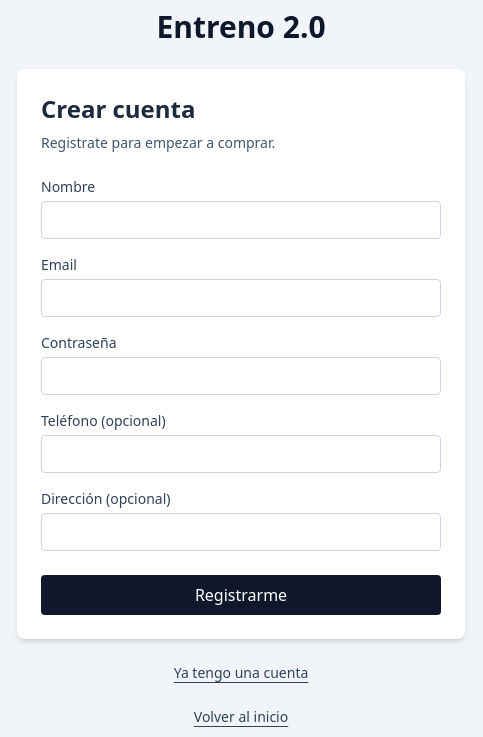
Test case: RegisterPage › con 409 muestra el aviso junto al campo email sin navegar al login
This screenshot has width=483, height=737.
Type "Ana Cliente" into the field labelled "Nombre" at (241, 220), box [41,201,441,239]
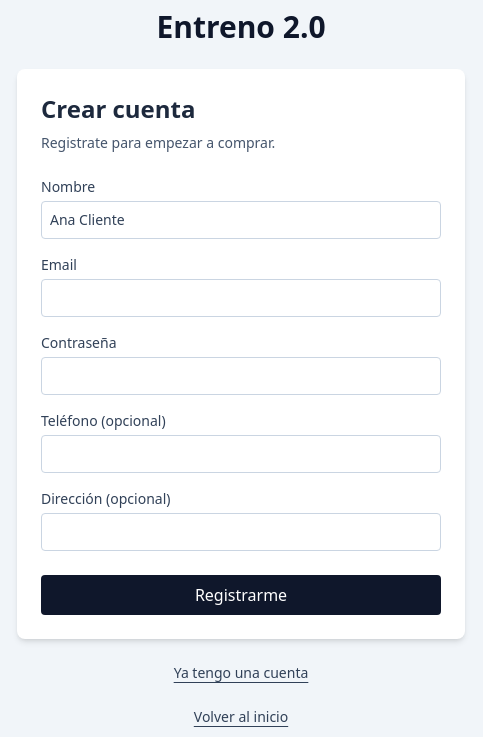
Type "ana@entreno.com.ar" into the field labelled "Email" at (241, 298), box [41,279,441,317]
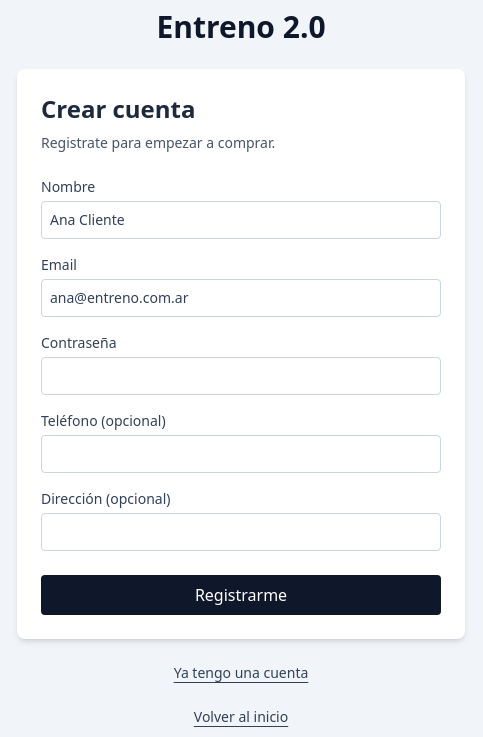
Type "supersecret1" into the password field labelled "Contraseña" at (241, 376), box [41,357,441,395]
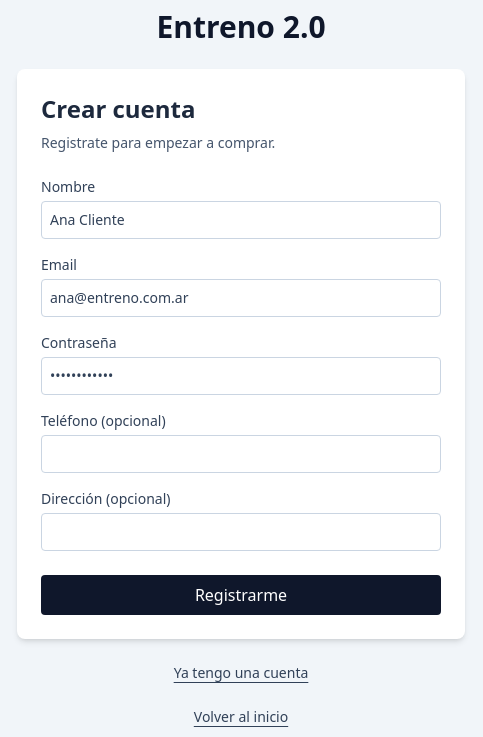
Click the button "Registrarme" at (241, 595), box [41,575,441,615]
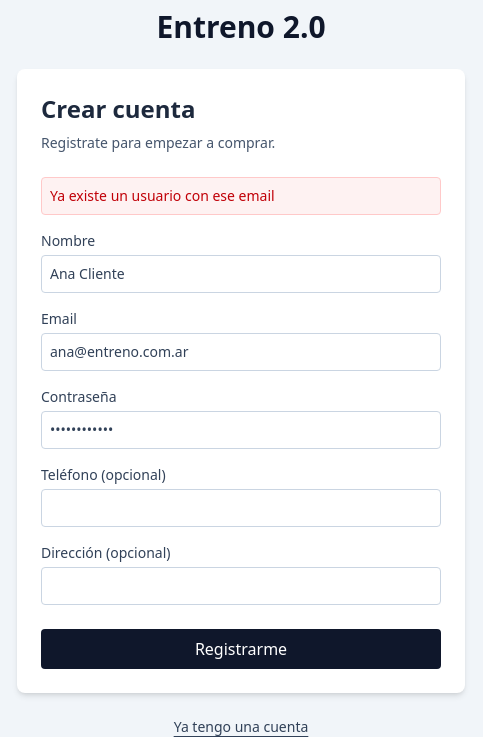
Expected: the heading "Crear cuenta" is shown, [41,92,196,125]
Expected: the text "Ya existe un usuario con ese email" is shown, [41,177,441,215]
